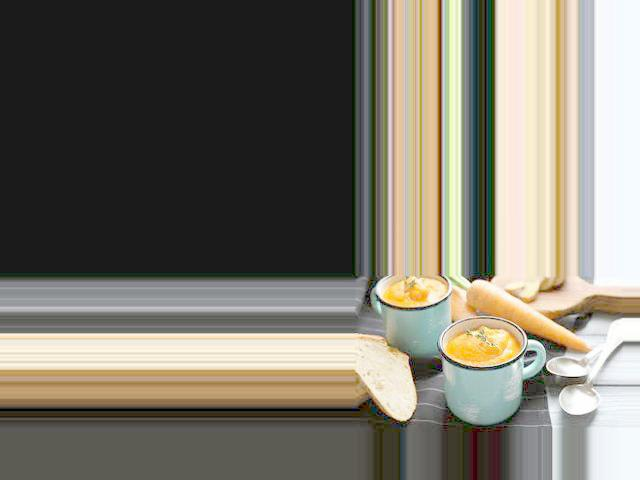carrot: (461, 277, 591, 355)
